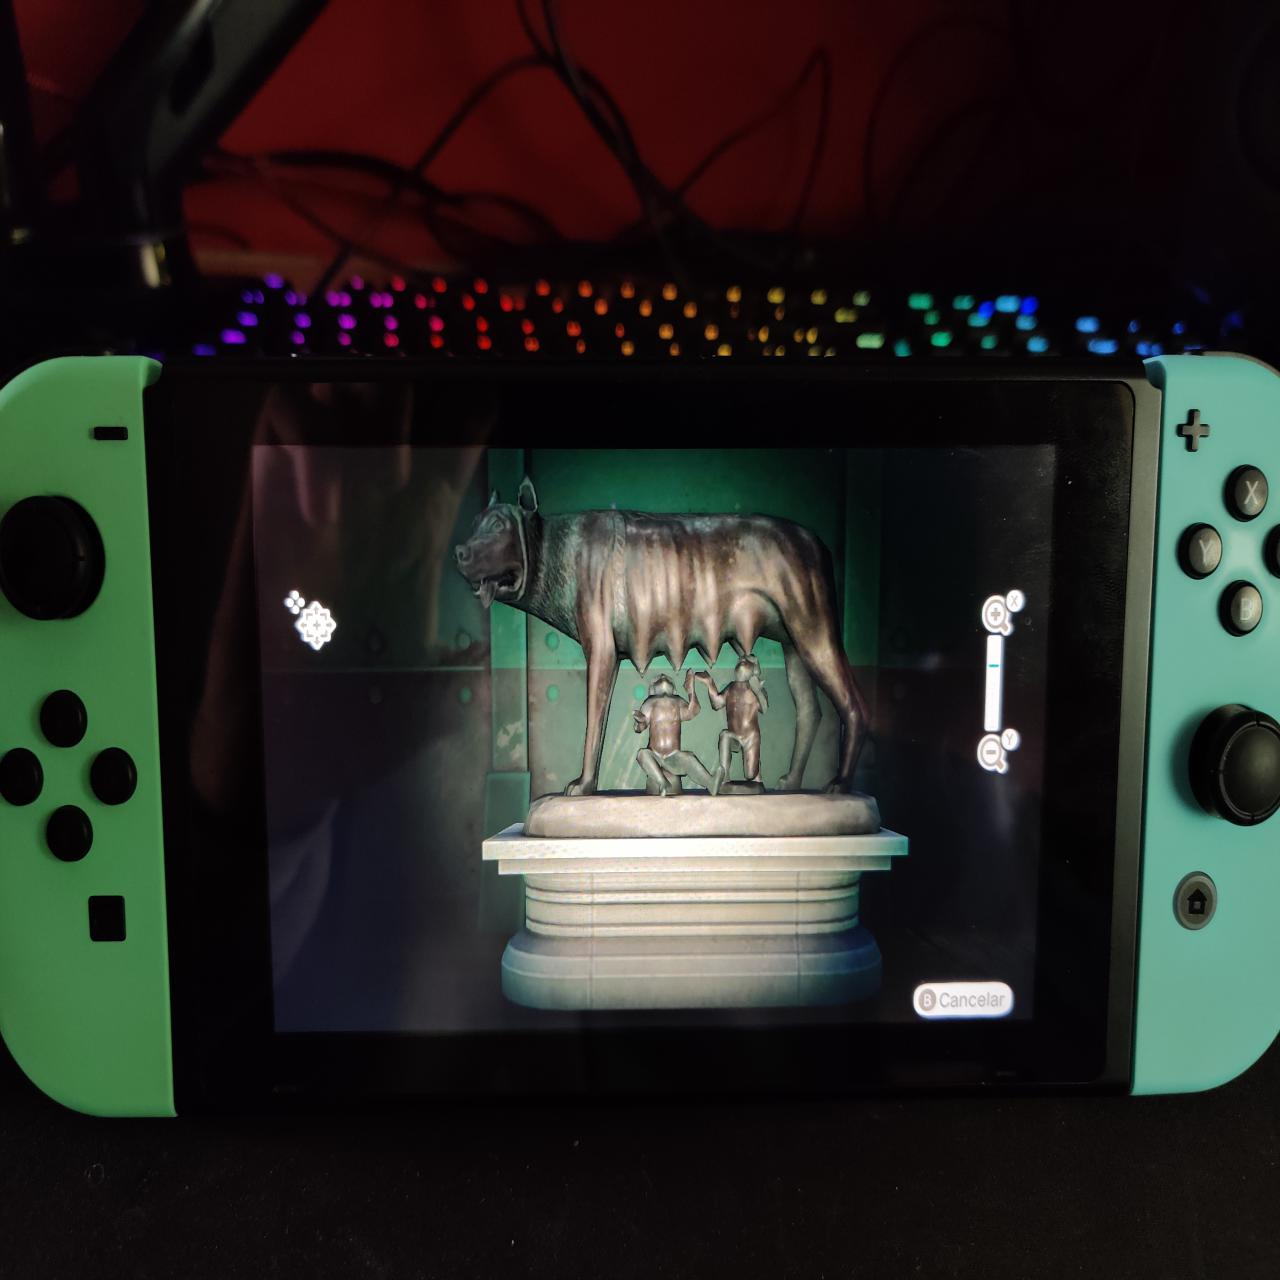CapitoliniFake: (445, 468, 893, 835)
